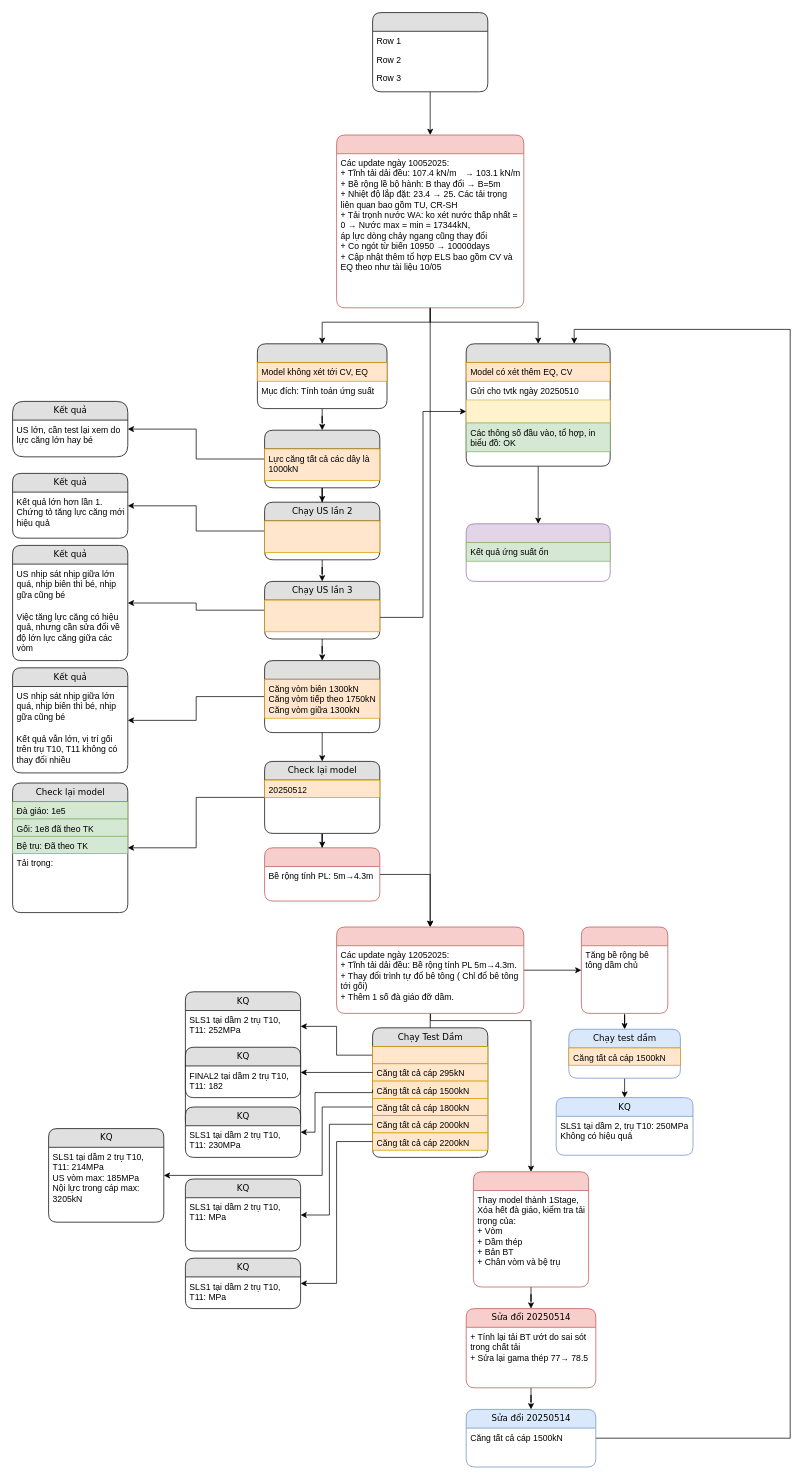
This 809x1480 diagram has some shape labels left out. The box of each missing label's shape, as (x1, y1, x2, y2) in pixels:
Chạy US lần 1: (264, 429, 380, 488)
Chạy US lần 4: (264, 660, 380, 733)
Căng tất cả cáp 1100kN: (372, 1046, 488, 1064)
Function: (372, 12, 488, 92)
Giá trị lực căng dây: (465, 399, 610, 423)
Lực căng tất cả các dây là 1600kN: (264, 599, 380, 632)
Lực căng tất cả các dây là 295kN: (264, 520, 380, 553)
Model 1: (257, 343, 387, 409)
Model 2: (465, 343, 610, 466)
Model cuối: (465, 523, 610, 581)
Sửa đổi 20250510: (336, 134, 524, 308)
Sửa đổi 20250512: (336, 926, 524, 1013)
Sửa đổi Beff: (581, 926, 668, 1013)
Sửa đổi ngày 20250512: (264, 847, 380, 901)
Test SW 20250514: (473, 1171, 589, 1287)
